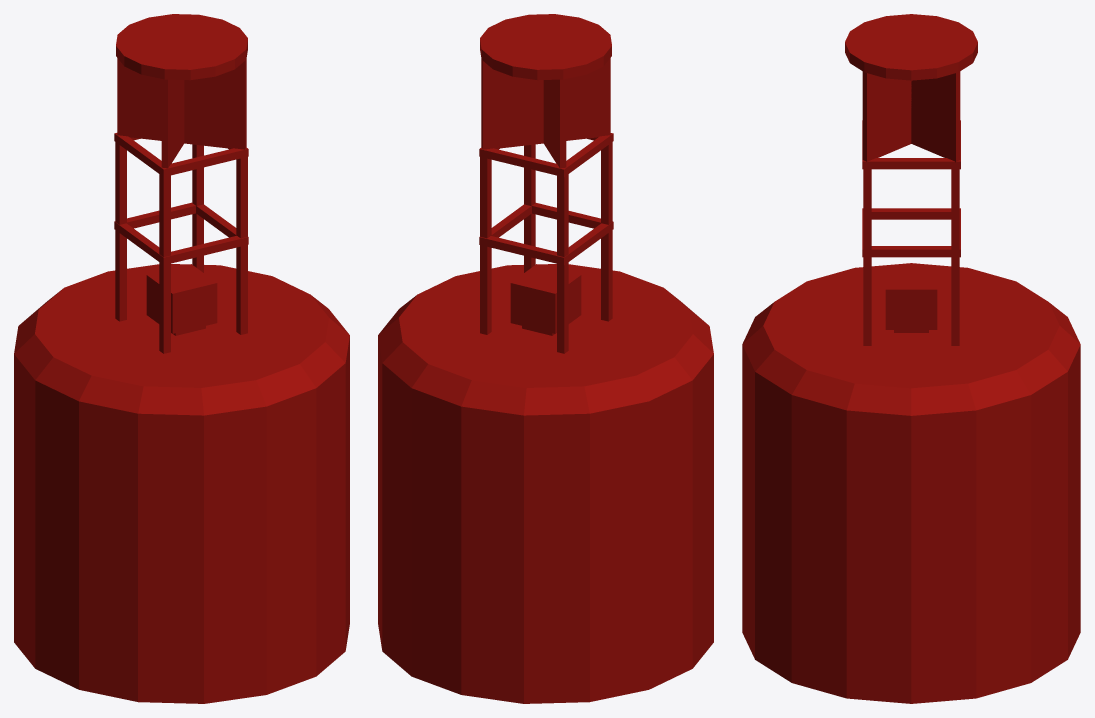
Rendered from buoy.glb.
3 renders of one model, left to right at view 1: azimuth 30°, elevation 25°; view 2: azimuth 150°, elevation 25°; view 3: azimuth 270°, elevation 25°, orthographic.
Parts seen in each view (by area): view 1: Cylinder; view 2: Cylinder; view 3: Cylinder.
Part boxes in pixels (left/top/right/bottom): Cylinder: left=14, top=14, right=349, bottom=703; Cylinder: left=378, top=14, right=713, bottom=703; Cylinder: left=742, top=14, right=1080, bottom=703.
Size of the model in its own units: 0.6 by 1.15 by 0.6.
